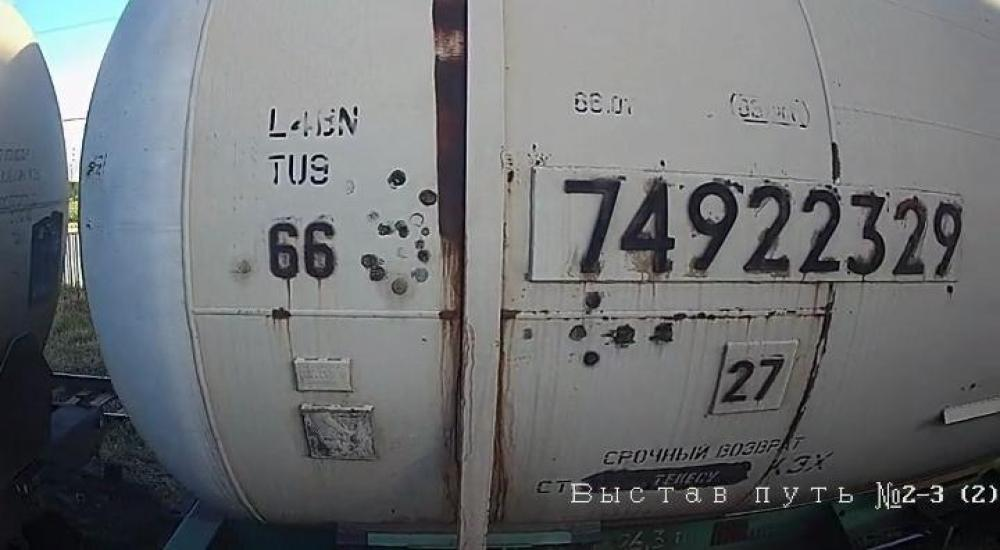Wagon-number: (560, 167, 964, 283)
